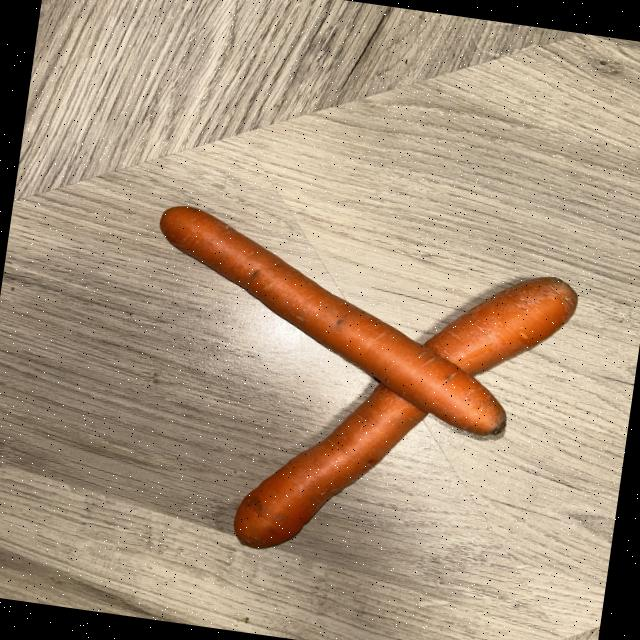carrot: (234, 384, 426, 549), (234, 384, 426, 548), (424, 277, 578, 375)
